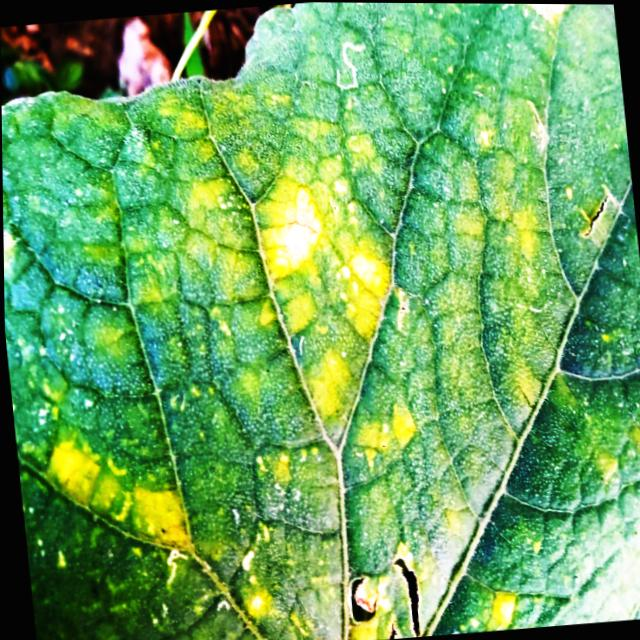Downy-Mildew: (1, 2, 640, 640)
